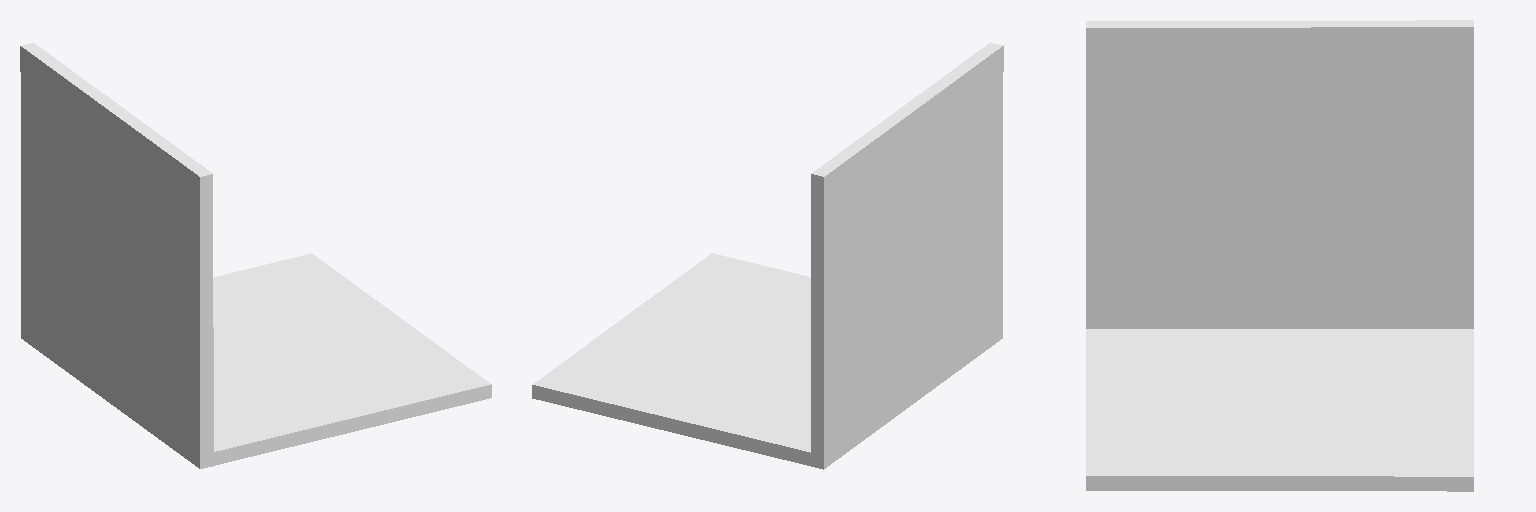
The robot description file, URDF, robot "ring_board":
<?xml version="0.0" ?>
<robot name="ring_board">
    <material name="WHITE">
        <color rgba="1 1 1 1"/>
    </material>

    <link name="baseLink">
        <!-- from lego/lego.urdf -->
        <inertial>
            <origin rpy="0 0 0" xyz="0 0 0"/>
            <mass value="10.0"/>
            <inertia ixx="1" ixy="0" ixz="0" iyy="1" iyz="0" izz="1"/>
        </inertial>
        <visual>
            <origin rpy="1.57 0 0" xyz="0 0 0"/>
            <geometry>
                <!--        radius: 10mm, depth: 14.5mm-->
                <mesh filename="meshes/ring_board.obj" scale="1 1 1"/>
                <!--        <box size="0.002 0.002 0.002"/>-->
            </geometry>
            <material name="WHITE"/>
        </visual>
        <collision>
            <origin rpy="1.57 0 0" xyz="0 0 0"/>
            <geometry>
                <mesh filename="meshes/ring_board.obj" scale="1 1 1"/>
                       <!-- <box size="2 2 2"/> -->
            </geometry>
        </collision>
    </link>

    <link name="vertical_board">
        <!-- from lego/lego.urdf -->
        <inertial>
            <origin rpy="0 0 0" xyz="0 0 0"/>
            <mass value="10.0"/>
            <inertia ixx="1" ixy="0" ixz="0" iyy="1" iyz="0" izz="1"/>
        </inertial>
        <visual>
            <origin rpy="0 0 0" xyz="0 0 0"/>
            <geometry>
                <!--        radius: 10mm, depth: 14.5mm-->
                <mesh filename="meshes/ring_board.obj" scale="1 1 1"/>
                <!--        <box size="0.002 0.002 0.002"/>-->
            </geometry>
            <material name="WHITE"/>
        </visual>
        <collision>
            <origin rpy="0 0 0" xyz="0 0 0"/>
            <geometry>
                <mesh filename="meshes/ring_board.obj" scale="1 1 1"/>
                       <!-- <box size="2 2 2"/> -->
            </geometry>
        </collision>
    </link>

    <joint name="vertical_board_joint" type="fixed">
        <parent link="baseLink"/>
        <child link="vertical_board"/>
        <origin rpy="1.57 1.57 0" xyz="-2.3 0 2.15"/>
    </joint>

</robot>

--- Facts derived from the render (not from the file) ---
The picture shows the robot from 3 angles, left to right: view 1: azimuth 30°, elevation 25°; view 2: azimuth 150°, elevation 25°; view 3: azimuth 270°, elevation 25°; orthographic projection.
Robot: ring_board — 2 links, 1 joints (1 fixed); root link baseLink; default pose: every joint at zero.
Visible links, largest first — view 1: vertical_board, baseLink; view 2: vertical_board, baseLink; view 3: vertical_board, baseLink.
Link boxes in pixels (<box>): vertical_board: <box>20,43,213,468</box>; baseLink: <box>212,253,491,465</box>; vertical_board: <box>811,42,1003,469</box>; baseLink: <box>532,253,811,465</box>; vertical_board: <box>1086,20,1473,328</box>; baseLink: <box>1086,329,1473,491</box>.
Bounding box of the posed robot: 4.67 × 4.98 × 4.47 m (x, y, z).
2 mesh visuals loaded from 1 distinct referenced files (1 OBJ).